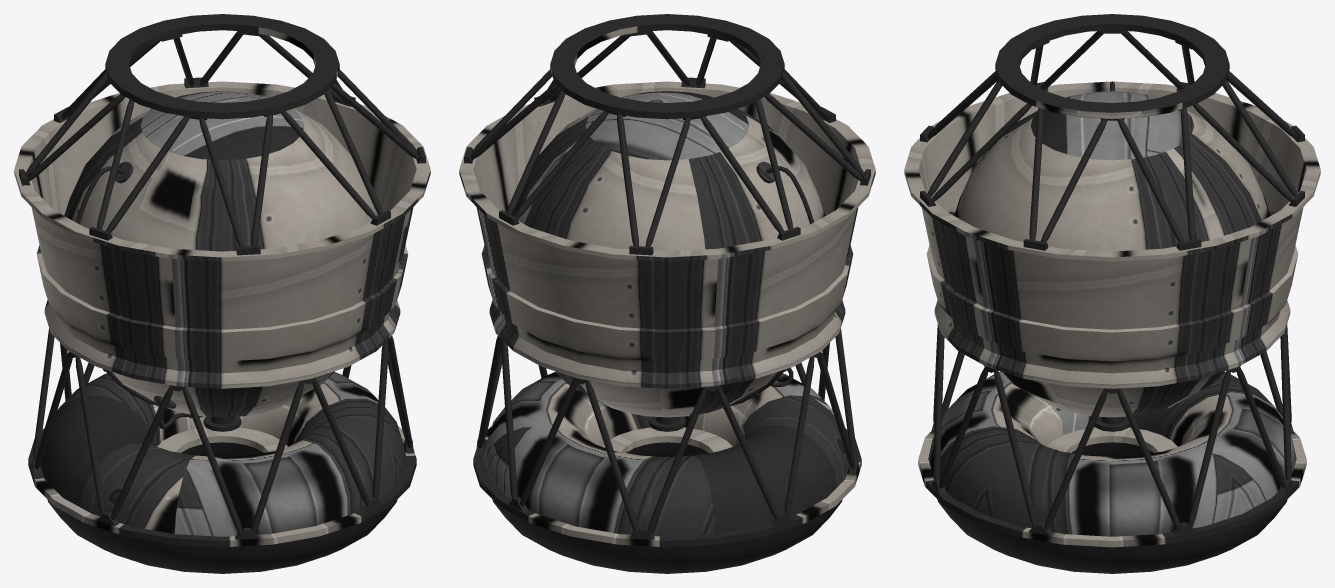
Rendered from fuel_tank.fbx.
The picture shows the model from 3 angles, left to right: view 1: azimuth 30°, elevation 25°; view 2: azimuth 150°, elevation 25°; view 3: azimuth 270°, elevation 25°; orthographic projection.
Visible parts, largest first — view 1: mesh, mesh_foil; view 2: mesh, mesh_foil; view 3: mesh, mesh_foil.
Boxes of the visible parts, left/top/right/bottom form: mesh: left=14, top=14, right=430, bottom=573; mesh_foil: left=64, top=91, right=378, bottom=417; mesh: left=459, top=14, right=875, bottom=573; mesh_foil: left=511, top=91, right=825, bottom=417; mesh: left=904, top=14, right=1320, bottom=573; mesh_foil: left=954, top=91, right=1270, bottom=417.
Bounding box in the file's own units: 2.22 × 2.66 × 2.22.
